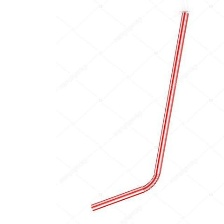drinking_straw: (85, 7, 195, 215)
